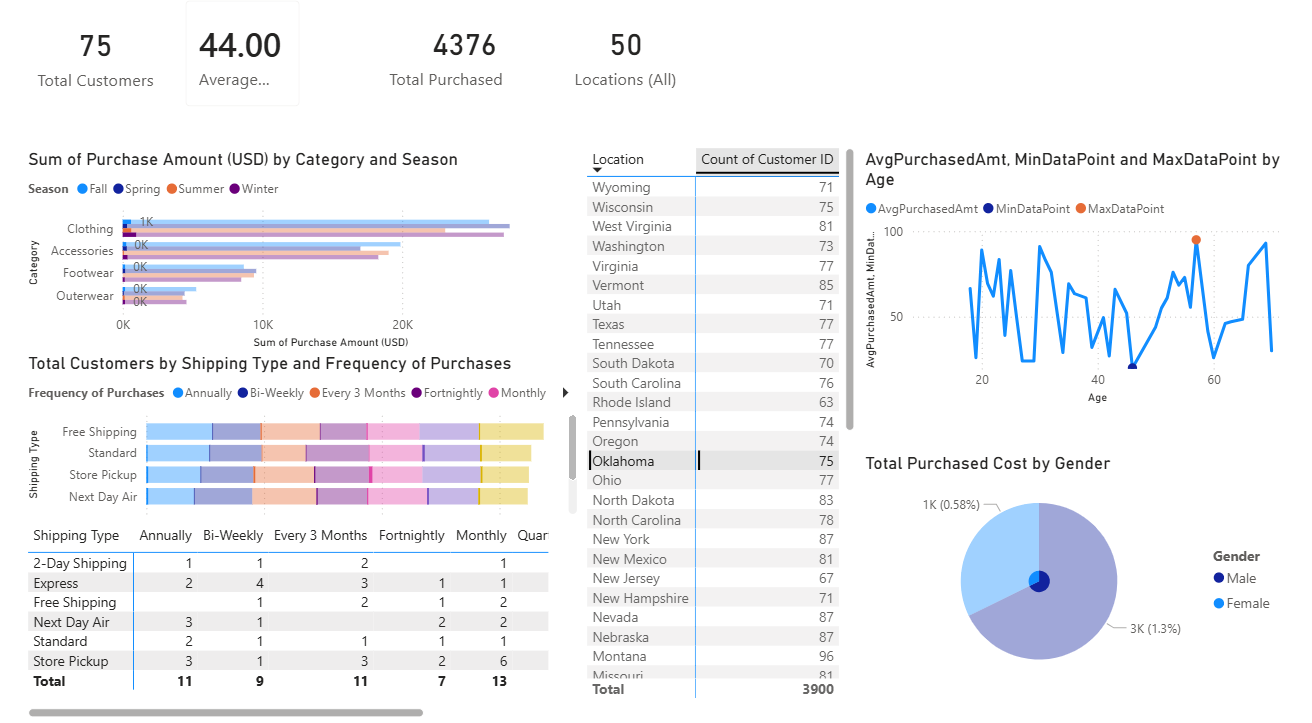

Layout of this report page (visuals, bound fields, positions):
{"tool":"powerbi","page":{"name":"Page 1","canvas":[1280,720],"ordinal":0},"visuals":[{"type":"pivotTable","fields":{"Rows":["shopping_behavior.Location"],"Values":["CountNonNull(shopping_behavior.Customer ID)"]},"box":[568,155.6,270.4,544.7],"z":0},{"type":"clusteredBarChart","fields":{"Category":["shopping_behavior.Category"],"Y":["Sum(shopping_behavior.Purchase Amount (USD))"],"Series":["shopping_behavior.Season"]},"box":[24.3,161.5,516.5,198.4],"z":1000},{"type":"barChart","fields":{"Category":["shopping_behavior.Shipping Type"],"Y":["shopping_behavior.Total Customers"],"Series":["shopping_behavior.Frequency of Purchases"]},"box":[24.3,359.9,543.7,194.5],"z":2000},{"type":"lineChart","fields":{"Category":["shopping_behavior.Age"],"Y":["shopping_behavior.AvgPurchasedAmt","shopping_behavior.MinDataPoint","shopping_behavior.MaxDataPoint"]},"box":[838.4,161.5,415.3,251.9],"z":4000},{"type":"pieChart","fields":{"Category":["shopping_behavior.Gender"],"Y":["shopping_behavior.Total Purchased Cost"]},"box":[838.4,457.1,414.3,230.5],"z":5000},{"type":"pivotTable","fields":{"Rows":["shopping_behavior.Shipping Type"],"Columns":["shopping_behavior.Frequency of Purchases"],"Values":["CountNonNull(shopping_behavior.Customer ID)"]},"box":[24.3,521.3,515.5,198.4],"z":5001},{"type":"card","fields":{"Values":["shopping_behavior.Total Customers"]},"box":[24.3,28.2,141,82.7],"z":5002},{"type":"cardVisual","fields":{"Data":["shopping_behavior.Average Age"]},"box":[165.3,0,145.9,137.1],"z":5003},{"type":"card","fields":{"Values":["shopping_behavior.Total Purchased Cost"]},"box":[339.5,0,228.6,137.1],"z":5004},{"type":"card","fields":{"Values":["shopping_behavior.Locations (All)"]},"box":[494.1,0,232.5,137.1],"z":5005}]}

Visuals, with their boxes in screenshot pixels (x1, y1, x2, y2), scaled from the page's 1280x720 canvas onto the 1312x723 screenshot:
pivotTable - shopping_behavior.Location x CountNonNull(shopping_behavior.Customer ID): {"left": 582, "top": 156, "right": 859, "bottom": 703}
clusteredBarChart - shopping_behavior.Category x Sum(shopping_behavior.Purchase Amount (USD)): {"left": 25, "top": 162, "right": 554, "bottom": 361}
barChart - shopping_behavior.Shipping Type x shopping_behavior.Total Customers: {"left": 25, "top": 361, "right": 582, "bottom": 557}
lineChart - shopping_behavior.Age x shopping_behavior.AvgPurchasedAmt: {"left": 859, "top": 162, "right": 1285, "bottom": 415}
pieChart - shopping_behavior.Gender x shopping_behavior.Total Purchased Cost: {"left": 859, "top": 459, "right": 1284, "bottom": 690}
pivotTable - shopping_behavior.Shipping Type x shopping_behavior.Frequency of Purchases: {"left": 25, "top": 523, "right": 553, "bottom": 722}
card - shopping_behavior.Total Customers: {"left": 25, "top": 28, "right": 169, "bottom": 111}
cardVisual - shopping_behavior.Average Age: {"left": 169, "top": 0, "right": 319, "bottom": 138}
card - shopping_behavior.Total Purchased Cost: {"left": 348, "top": 0, "right": 582, "bottom": 138}
card - shopping_behavior.Locations (All): {"left": 506, "top": 0, "right": 745, "bottom": 138}
